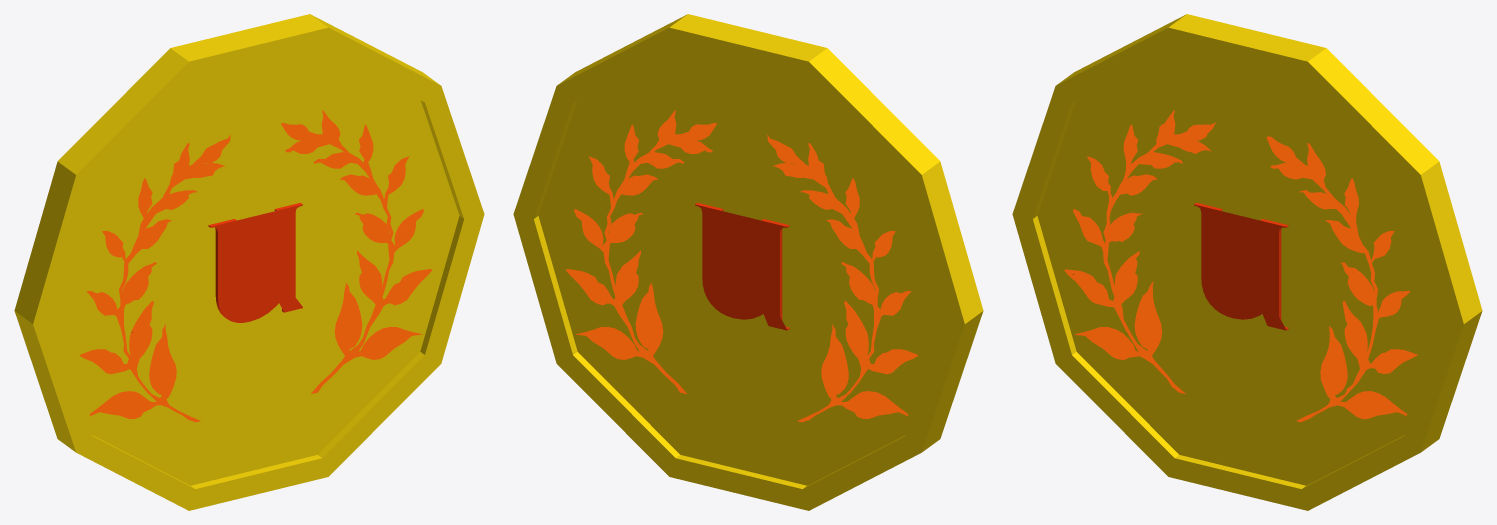
File: M_O_Coin.fbx
3 renders of one model, left to right at view 1: azimuth 30°, elevation 25°; view 2: azimuth 150°, elevation 25°; view 3: azimuth 330°, elevation 25°, orthographic.
Visible parts, largest first — view 1: M_Coin, M_Coin_Crown_Leaves1, M_Coin_U; view 2: M_Coin, M_Coin_Crown_Leaves2, M_Coin_U1; view 3: M_Coin, M_Coin_Crown_Leaves1, M_Coin_U.
Boxes of the visible parts, box(x1,y1,x2,y2) form: M_Coin: box(14, 14, 484, 510); M_Coin_Crown_Leaves1: box(79, 110, 431, 422); M_Coin_U: box(208, 203, 302, 322); M_Coin: box(513, 14, 983, 510); M_Coin_Crown_Leaves2: box(566, 110, 918, 422); M_Coin_U1: box(695, 203, 789, 330); M_Coin: box(1012, 14, 1482, 510); M_Coin_Crown_Leaves1: box(1064, 110, 1417, 422); M_Coin_U: box(1194, 203, 1288, 330).
Size of the model in its own units: 7 by 6.66 by 0.5.
